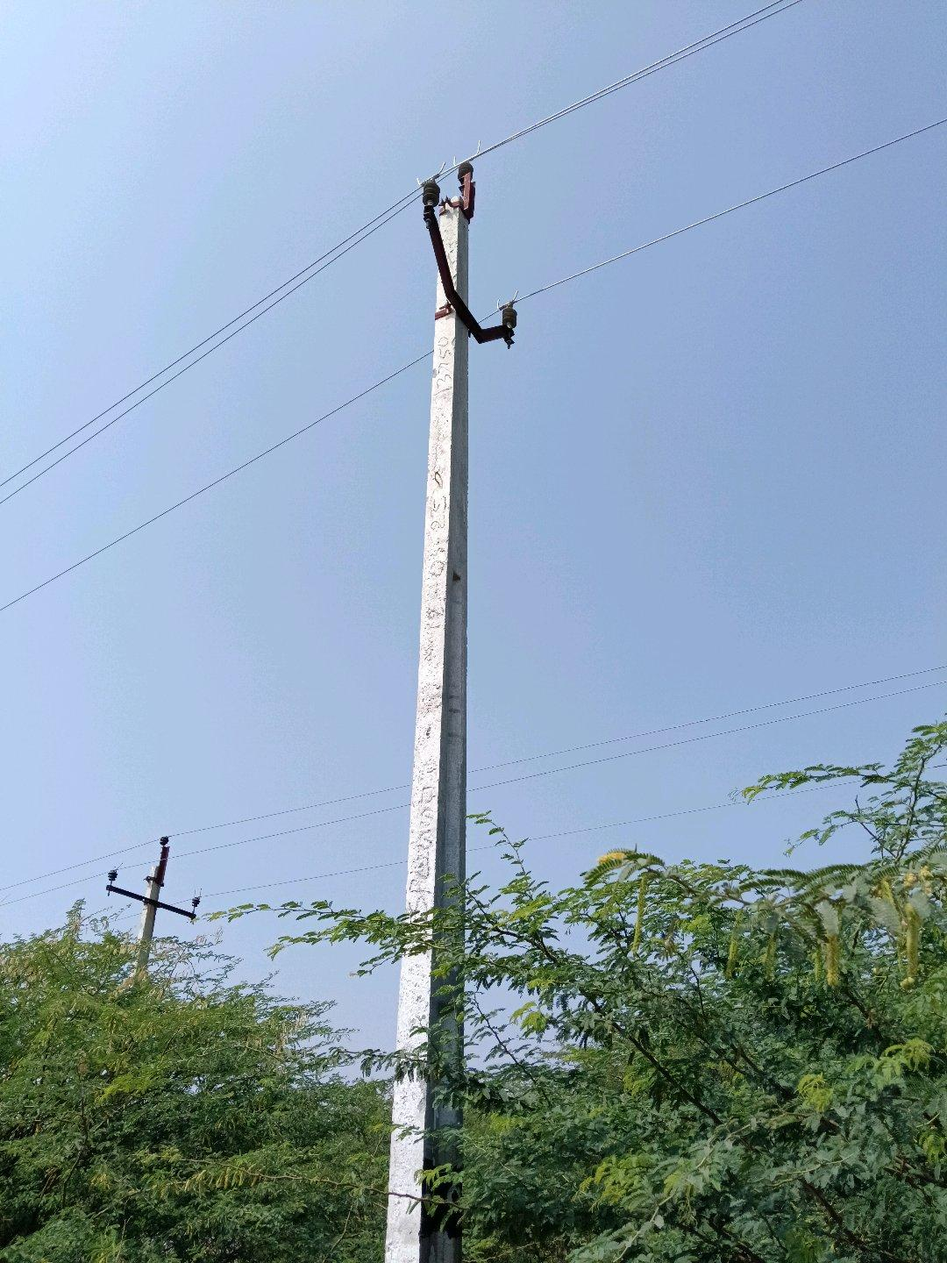{"0" "insulator", "1" "pole", "2" "crossarm", "3" "conductor", "4" "street_: (405, 161, 516, 915), (384, 1074, 459, 1262), (105, 835, 200, 980), (396, 952, 453, 1052), (447, 1046, 452, 1052)
